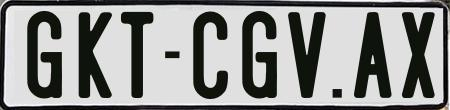A: (352, 10, 391, 100)
C: (193, 11, 229, 99)
G: (24, 9, 63, 98), (242, 10, 279, 103)
K: (77, 10, 110, 100)
T: (121, 12, 153, 99)
V: (286, 12, 325, 98)
X: (401, 11, 432, 101)
